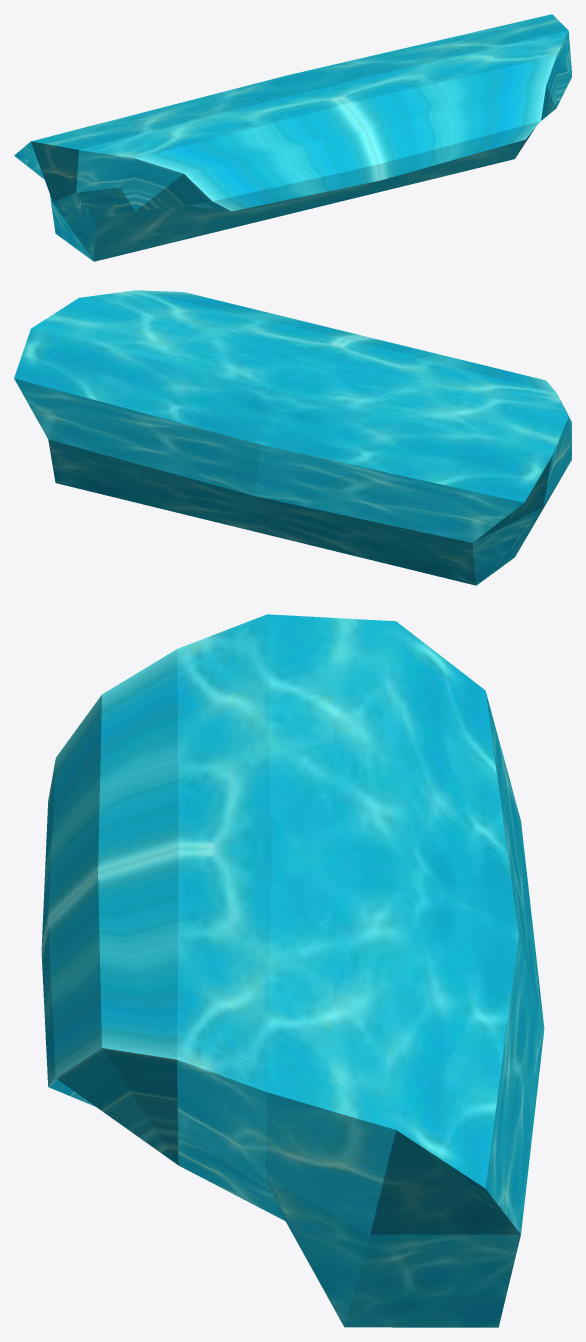
File: tsunami_wave.glb
3 renders of one model, top to bottom at view 1: azimuth 30°, elevation 25°; view 2: azimuth 150°, elevation 25°; view 3: azimuth 270°, elevation 25°, orthographic. The views are drawn at different scales.
Visible parts, largest first — view 1: Wave; view 2: Wave; view 3: Wave.
Part boxes in pixels (bbox=[...]): Wave: bbox=[14, 14, 571, 261]; Wave: bbox=[14, 290, 571, 585]; Wave: bbox=[41, 614, 544, 1327].
Size of what is drawn, in the model's own units: 14.67 by 3.68 by 6.13.
1 material, 1 textured.
